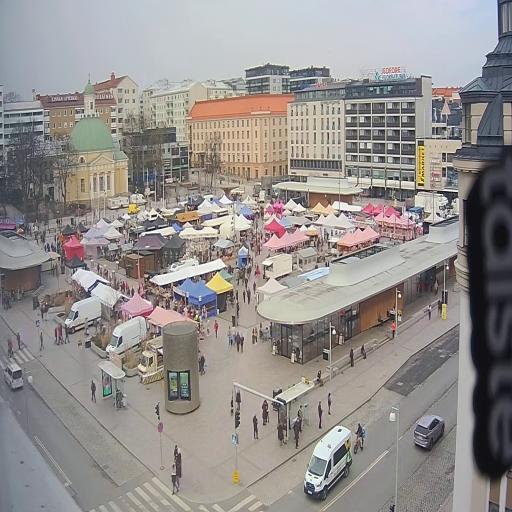car: (411, 402, 449, 456), (4, 359, 25, 397)
delivery: (297, 416, 355, 506), (96, 312, 150, 366), (62, 286, 105, 339), (412, 192, 449, 222), (130, 190, 150, 206), (126, 201, 142, 217)
two-wheeler: (352, 414, 369, 458)
